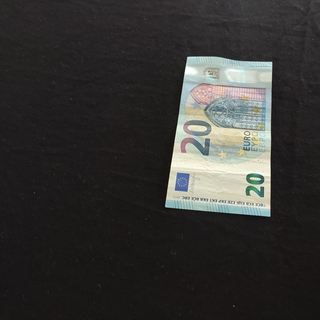20EUROFront: (164, 56, 272, 218)
